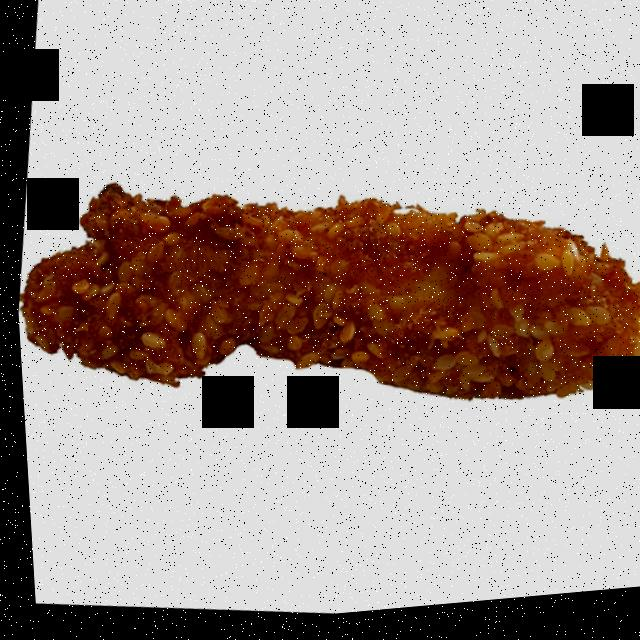Frango: (17, 128, 640, 485)
